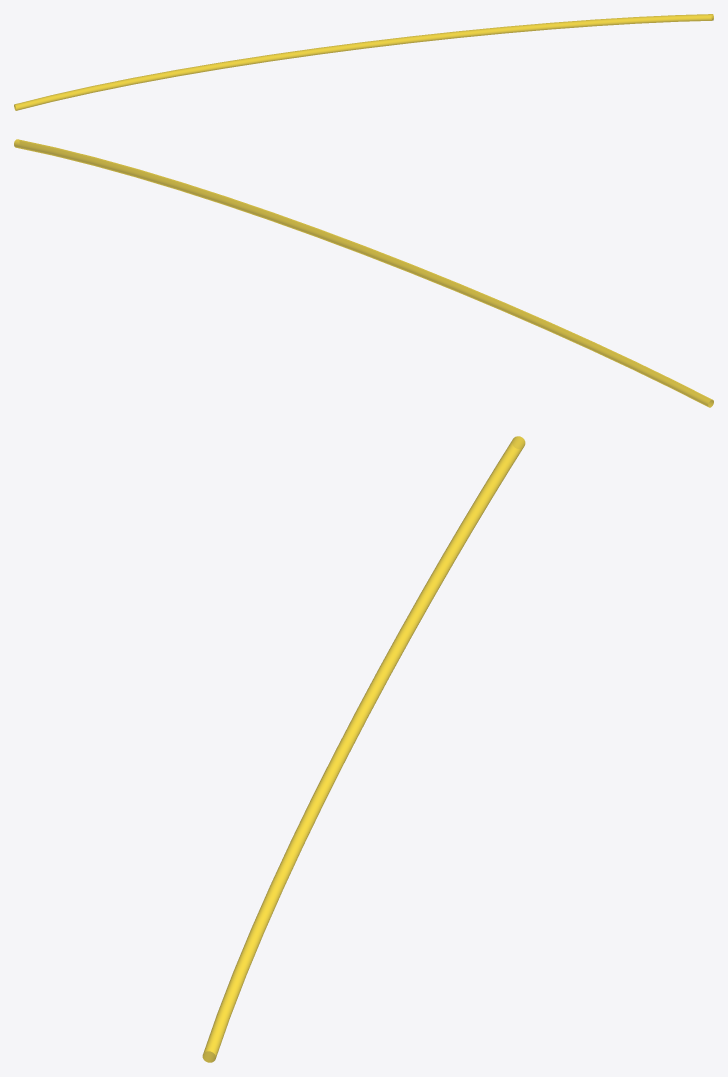
File: Event_17758602_track_164.fbx
The picture shows the model from 3 angles, top to bottom: view 1: azimuth 30°, elevation 25°; view 2: azimuth 150°, elevation 25°; view 3: azimuth 270°, elevation 25°; orthographic projection. The views are drawn at different scales.
Parts seen in each view (by area): view 1: Model; view 2: Model; view 3: Model.
Boxes of the visible parts, x1,y1,x2,y2 form: Model: (14,14,713,110); Model: (14,139,713,407); Model: (202,436,525,1062).
Bounding box in the file's own units: 4.22 × 0.1689 × 0.9486.
